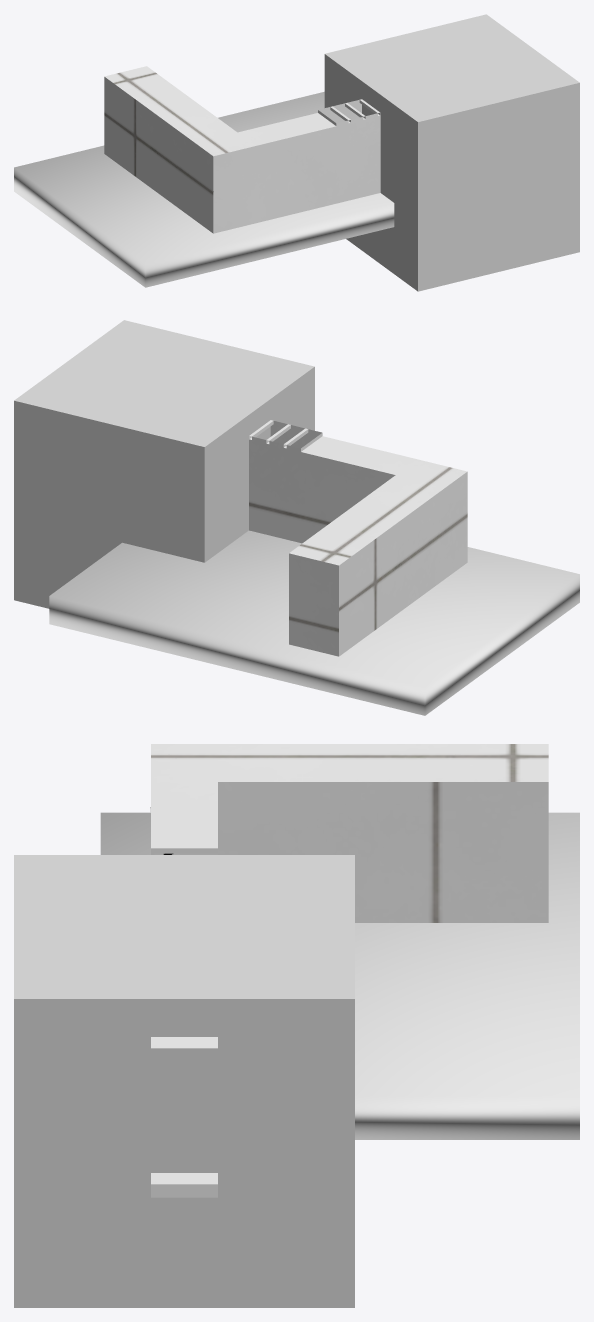
Rendered from poolcore corridor.fbx.
3 renders of one model, top to bottom at view 1: azimuth 30°, elevation 25°; view 2: azimuth 150°, elevation 25°; view 3: azimuth 270°, elevation 25°, orthographic. The views are drawn at different scales.
Visible parts, largest first — view 1: fog, 1.001, warter; view 2: fog, warter, 1.001; view 3: fog, 1.001, warter.
Part boxes in pixels (bbox=[...]): fog: bbox=[324, 14, 579, 291]; 1.001: bbox=[104, 66, 380, 233]; warter: bbox=[14, 91, 394, 287]; fog: bbox=[14, 320, 314, 608]; warter: bbox=[49, 530, 579, 715]; 1.001: bbox=[249, 420, 467, 656]; fog: bbox=[14, 855, 354, 1307]; 1.001: bbox=[151, 744, 548, 1197]; warter: bbox=[100, 812, 579, 1139].
Size of the model in its own units: 308 by 118 by 196.
